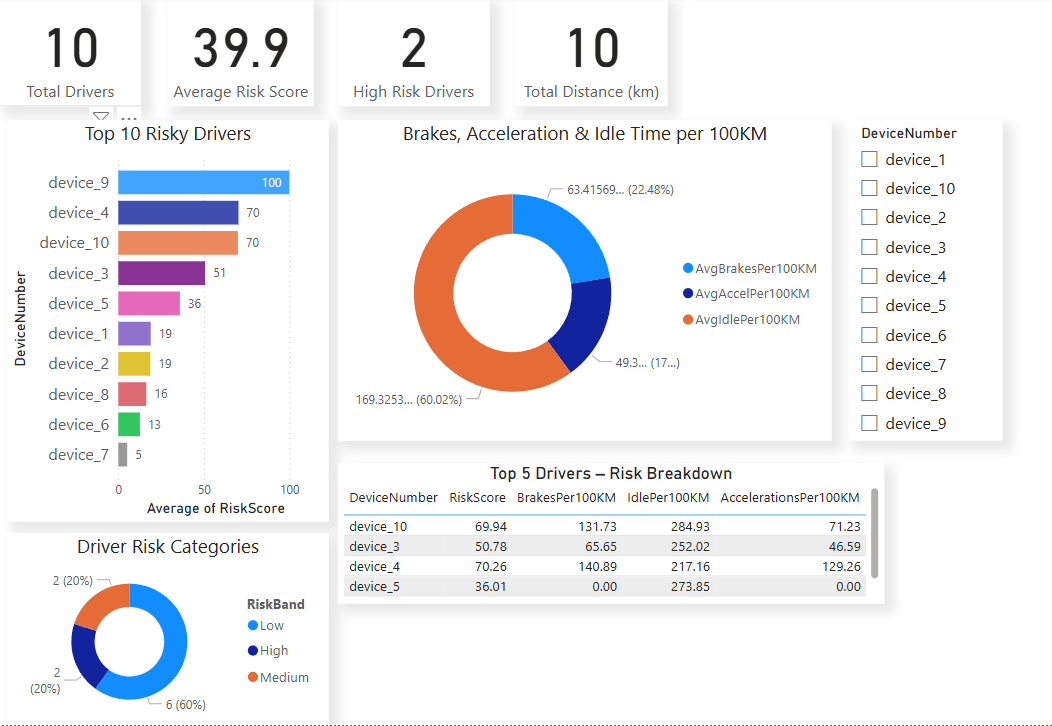

This screenshot's page, from the dashboard's own definition file:
{"tool":"powerbi","page":{"name":"Executive Overview","canvas":[1280,720],"ordinal":0},"visuals":[{"type":"card","fields":{"Values":["Count(DriverRiskSummary.DeviceNumber)"]},"box":[0,0,141,108],"z":0},{"type":"card","fields":{"Values":["DriverRiskSummary.AvgRiskScore"]},"box":[166.6,0,144.2,108.4],"z":1000},{"type":"card","fields":{"Values":["DriverRiskSummary.HighRiskDrivers"]},"box":[334.9,0,149.6,108.4],"z":2000},{"type":"clusteredBarChart","title":"Top 10 Risky Drivers","fields":{"Category":["DriverRiskSummary.DeviceNumber"],"Y":["Avg(DriverRiskSummary.RiskScore)"]},"box":[7.8,121.6,318.1,396.8],"z":3000},{"type":"donutChart","title":"Driver Risk Categories","fields":{"Y":["CountNonNull(DriverRiskSummary.DeviceNumber)"],"Category":["DriverRiskSummary.RiskBand"]},"box":[8.1,530.1,317.9,189.9],"z":4000},{"type":"slicer","fields":{"Values":["DriverRiskSummary.DeviceNumber"]},"box":[839.1,121.8,153.1,317],"z":5000},{"type":"card","fields":{"Values":["CountNonNull(DriverRiskSummary.TotalDistanceKM)"]},"box":[509.6,0,151.3,108.4],"z":6000},{"type":"tableEx","title":"Top 5 Drivers – Risk Breakdown","fields":{"Values":["DriverRiskSummary.DeviceNumber","DriverRiskSummary.RiskScore","DriverRiskSummary.BrakesPer100KM","DriverRiskSummary.IdlePer100KM","DriverRiskSummary.AccelerationsPer100KM"]},"box":[334.9,460.3,540,138.8],"z":7000},{"type":"donutChart","title":"Brakes, Acceleration & Idle Time per 100KM","fields":{"Y":["DriverRiskSummary.AvgBrakesPer100KM","DriverRiskSummary.AvgAccelPer100KM","DriverRiskSummary.AvgIdlePer100KM"]},"box":[334.9,121.8,488.1,317],"z":8000}]}

Visuals, with their boxes on the page's 1280x720 design canvas (x1, y1, x2, y2). These are canvas units, not pixel positions in the 1052x726 screenshot, which may show the page scaled, cropped or inside an application window:
card - Count(DriverRiskSummary.DeviceNumber): (0,0,141,108)
card - DriverRiskSummary.AvgRiskScore: (167,0,311,108)
card - DriverRiskSummary.HighRiskDrivers: (335,0,484,108)
"Top 10 Risky Drivers" clusteredBarChart: (8,122,326,518)
"Driver Risk Categories" donutChart: (8,530,326,720)
slicer - DriverRiskSummary.DeviceNumber: (839,122,992,439)
card - CountNonNull(DriverRiskSummary.TotalDistanceKM): (510,0,661,108)
"Top 5 Drivers – Risk Breakdown" tableEx: (335,460,875,599)
"Brakes, Acceleration & Idle Time per 100KM" donutChart: (335,122,823,439)
